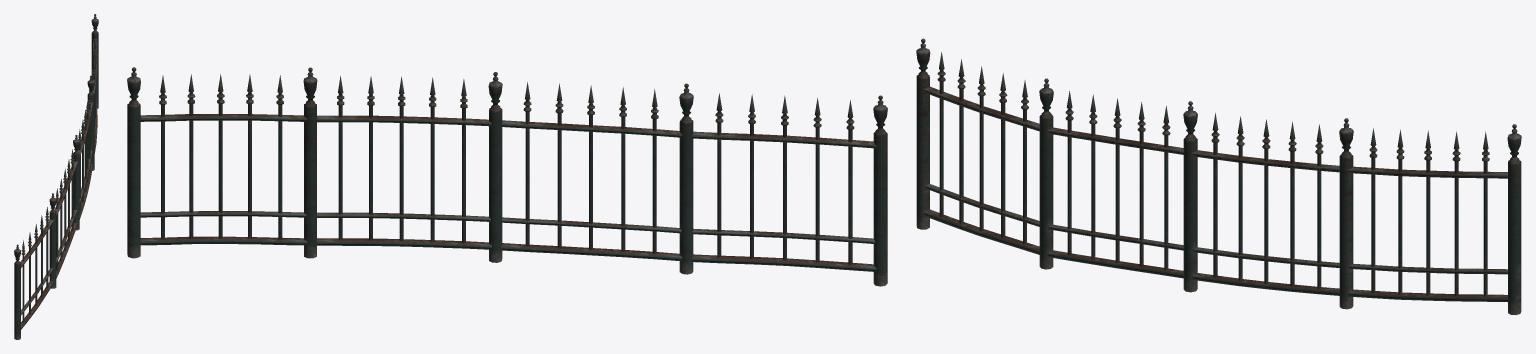
The model's file is Fence01_01.fbx.
The picture shows the model from 3 angles, left to right: view 1: azimuth 30°, elevation 25°; view 2: azimuth 150°, elevation 25°; view 3: azimuth 270°, elevation 25°; orthographic projection. The views are drawn at different scales.
Parts seen in each view (by area): view 1: LODGroup_1_MainMesh_1_SubMesh_1; view 2: LODGroup_1_MainMesh_1_SubMesh_1; view 3: LODGroup_1_MainMesh_1_SubMesh_1.
Boxes of the visible parts, x1,y1,x2,y2 form: LODGroup_1_MainMesh_1_SubMesh_1: [14, 14, 98, 339]; LODGroup_1_MainMesh_1_SubMesh_1: [127, 67, 887, 286]; LODGroup_1_MainMesh_1_SubMesh_1: [916, 38, 1521, 314].
Bounding box in the file's own units: 371 × 247 × 420.
